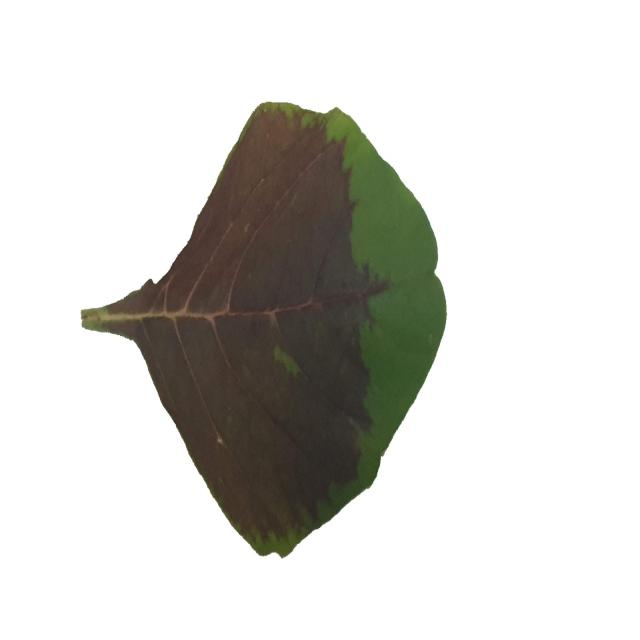Medicinal-Arive Dantu: (77, 96, 449, 566)
